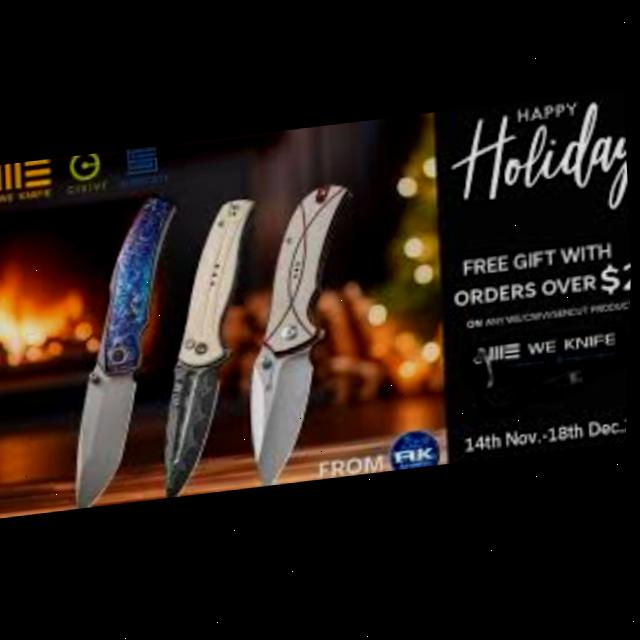knife: (51, 192, 196, 511), (233, 183, 370, 492), (147, 198, 277, 501)
